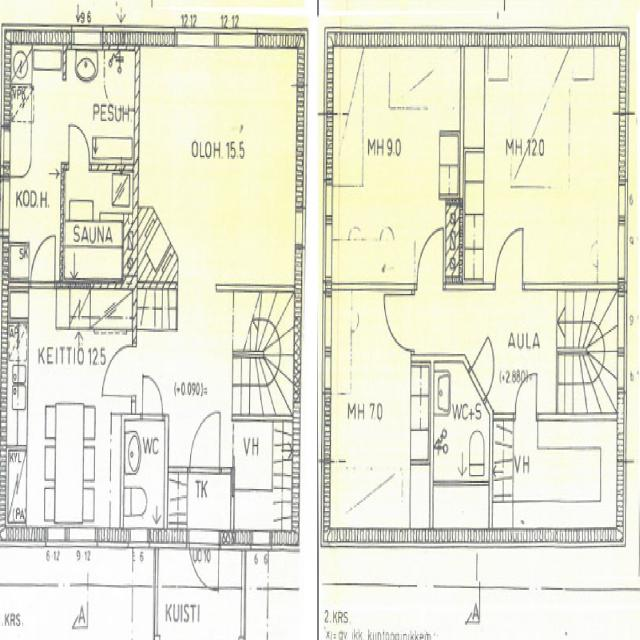door: (188, 529, 219, 610), (468, 335, 503, 403), (189, 407, 219, 475), (495, 227, 523, 290), (381, 294, 413, 349), (106, 346, 137, 398), (417, 230, 443, 289), (30, 233, 54, 288), (514, 370, 537, 420), (68, 122, 89, 169), (142, 373, 162, 421), (0, 180, 8, 232)
